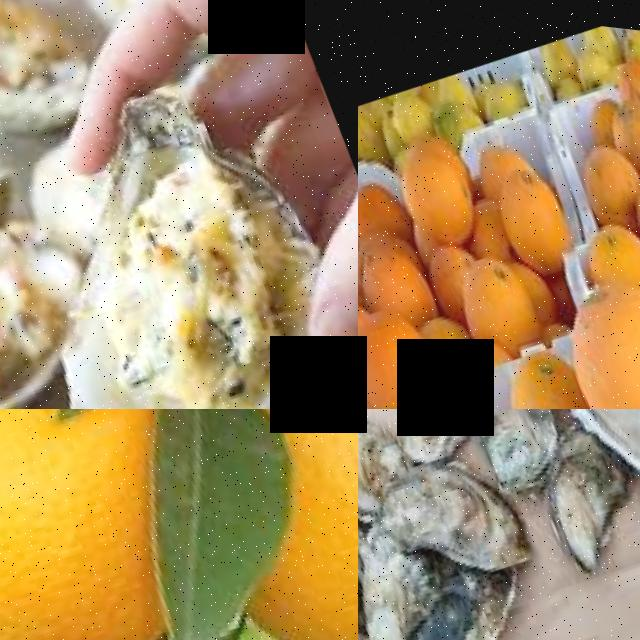orange: (0, 409, 188, 640), (213, 409, 358, 640), (541, 254, 640, 409), (381, 127, 487, 259), (445, 235, 548, 357), (358, 291, 461, 409), (484, 154, 579, 270), (487, 331, 609, 409), (568, 131, 640, 229)
oysters: (0, 75, 358, 409), (373, 425, 539, 597), (522, 409, 640, 575), (446, 409, 583, 492)
